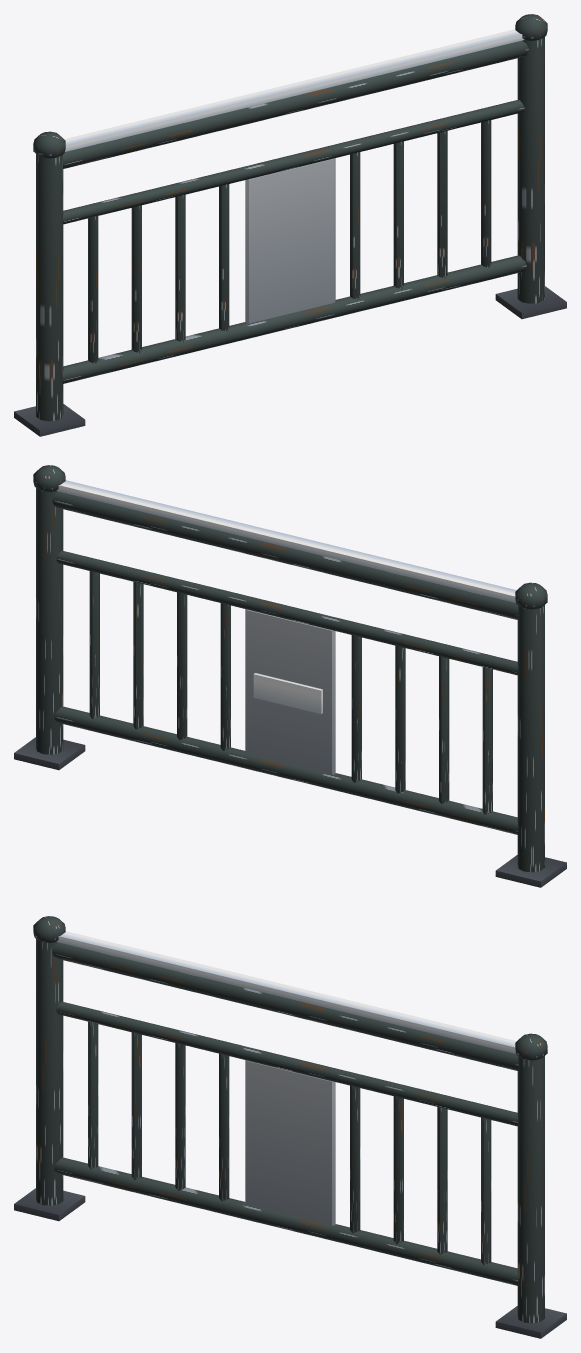
The model's file is ck_railing_section.fbx.
3 views of the same model, one above another, from view 1: azimuth 30°, elevation 25°; view 2: azimuth 150°, elevation 25°; view 3: azimuth 330°, elevation 25° (orthographic).
Parts seen in each view (by area): view 1: ck_railing_section; view 2: ck_railing_section; view 3: ck_railing_section.
Boxes of the visible parts, box(x1,y1,x2,y2) form: ck_railing_section: box(14, 14, 566, 436); ck_railing_section: box(14, 465, 566, 887); ck_railing_section: box(14, 916, 566, 1338).
Bounding box in the file's own units: 700 × 366 × 60.
